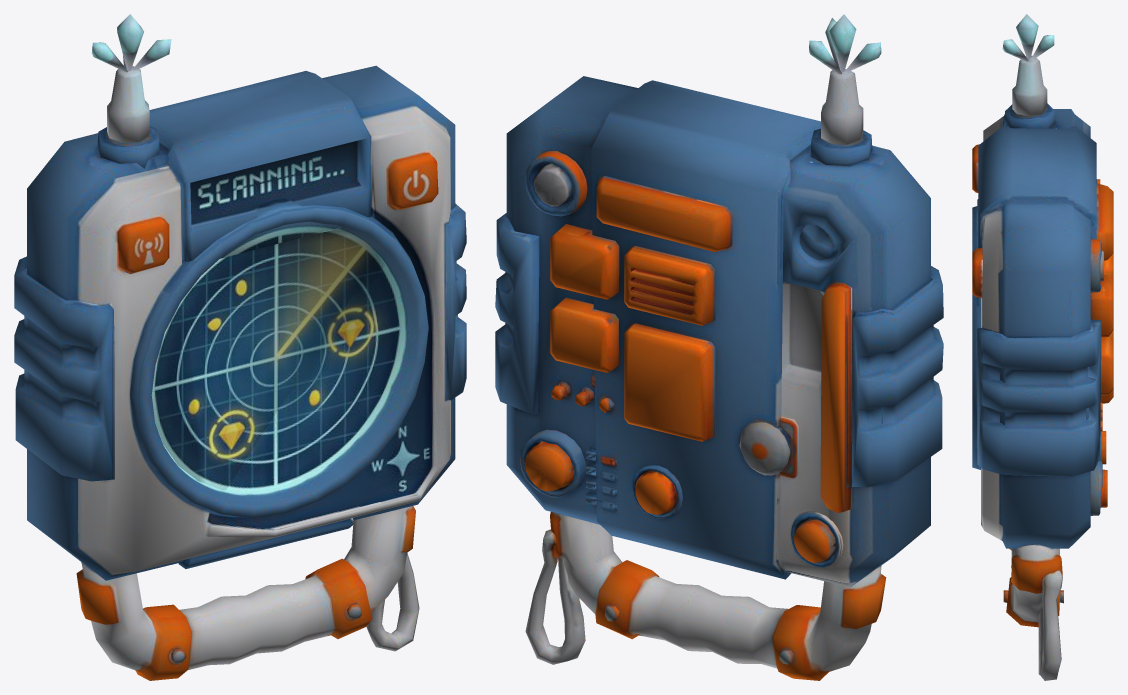
File: 보물레이더.glb
3 renders of one model, left to right at view 1: azimuth 30°, elevation 25°; view 2: azimuth 150°, elevation 25°; view 3: azimuth 270°, elevation 25°, orthographic. The views are drawn at different scales.
Visible parts, largest first — view 1: tripo_node_0c2a7b95-7570-43df-8f8a-3a47a6cec9d1; view 2: tripo_node_0c2a7b95-7570-43df-8f8a-3a47a6cec9d1; view 3: tripo_node_0c2a7b95-7570-43df-8f8a-3a47a6cec9d1.
Boxes of the visible parts, x1,y1,x2,y2 form: tripo_node_0c2a7b95-7570-43df-8f8a-3a47a6cec9d1: (14,14,466,680); tripo_node_0c2a7b95-7570-43df-8f8a-3a47a6cec9d1: (495,14,943,680); tripo_node_0c2a7b95-7570-43df-8f8a-3a47a6cec9d1: (972,14,1113,680).
Size of the model in its own units: 0.5957 by 0.998 by 0.2285.
1 material, 1 textured.
